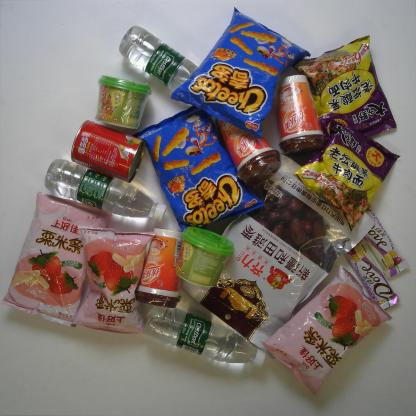Canned Food: (69, 118, 148, 184)
Chocolate: (342, 237, 400, 312), (360, 203, 412, 281)
Dried Food: (177, 169, 376, 372)
Drink: (43, 157, 169, 224), (141, 305, 268, 368), (117, 24, 200, 93)
Instant Drink: (209, 112, 282, 186), (277, 73, 326, 161), (134, 228, 185, 310), (172, 226, 236, 289), (94, 73, 153, 131)
Instant Noodles: (290, 116, 402, 234), (287, 33, 399, 143)
Puffed Food: (169, 4, 312, 141), (259, 262, 393, 398), (130, 102, 267, 235), (0, 189, 114, 332), (71, 226, 156, 340)
